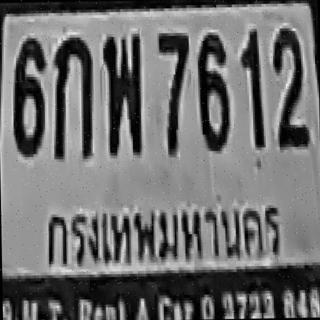A01: (50, 34, 93, 159)
A30: (102, 32, 142, 154)
N01: (240, 27, 263, 149)
N02: (272, 27, 308, 148)
N06: (10, 35, 45, 154), (196, 32, 230, 151)
N07: (157, 30, 190, 155)
P04: (42, 192, 285, 275)
